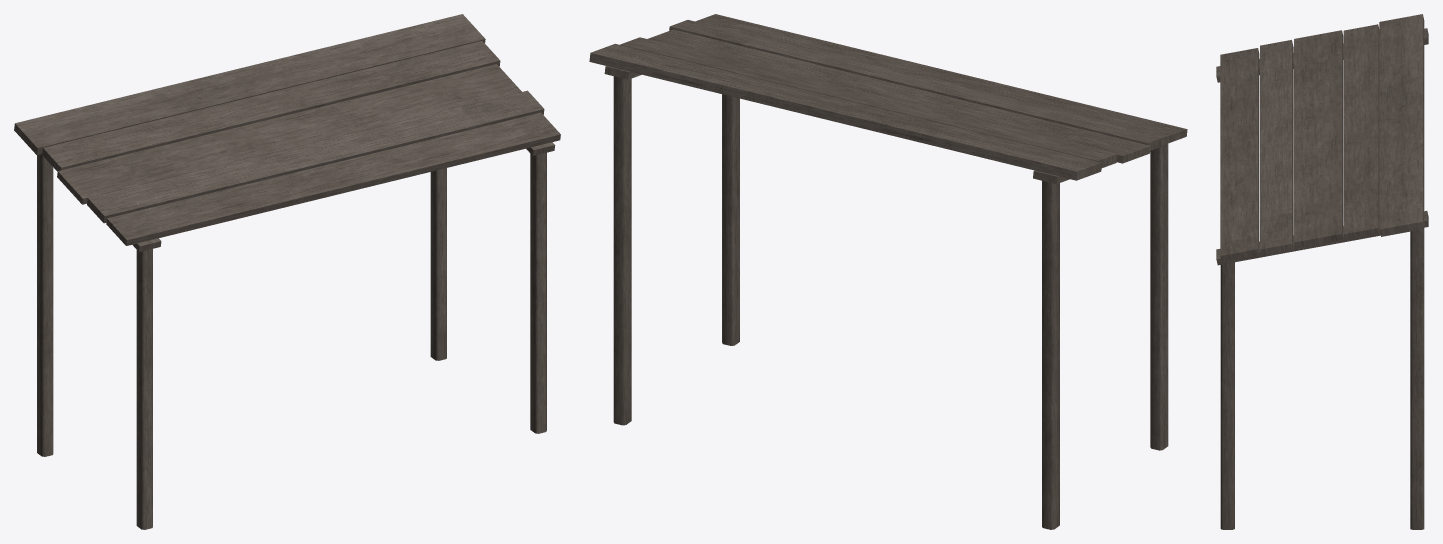
Rendered from woodRoof3.fbx.
3 views of the same model, side by side, from view 1: azimuth 30°, elevation 25°; view 2: azimuth 150°, elevation 25°; view 3: azimuth 270°, elevation 25° (orthographic). The views are drawn at different scales.
Parts seen in each view (by area): view 1: woodRoof3; view 2: woodRoof3; view 3: woodRoof3.
Part boxes in pixels (x1,y1,x2,y2): woodRoof3: (14, 14, 560, 529); woodRoof3: (589, 14, 1187, 529); woodRoof3: (1216, 14, 1428, 529).
Bounding box in the file's own units: 512 × 366 × 221.
